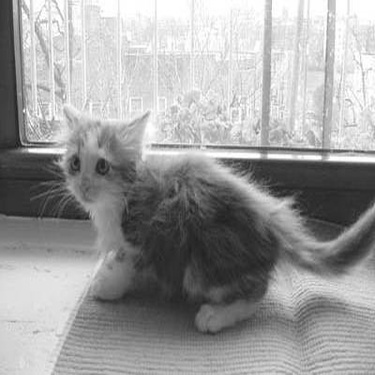cat: (46, 62, 365, 333)
